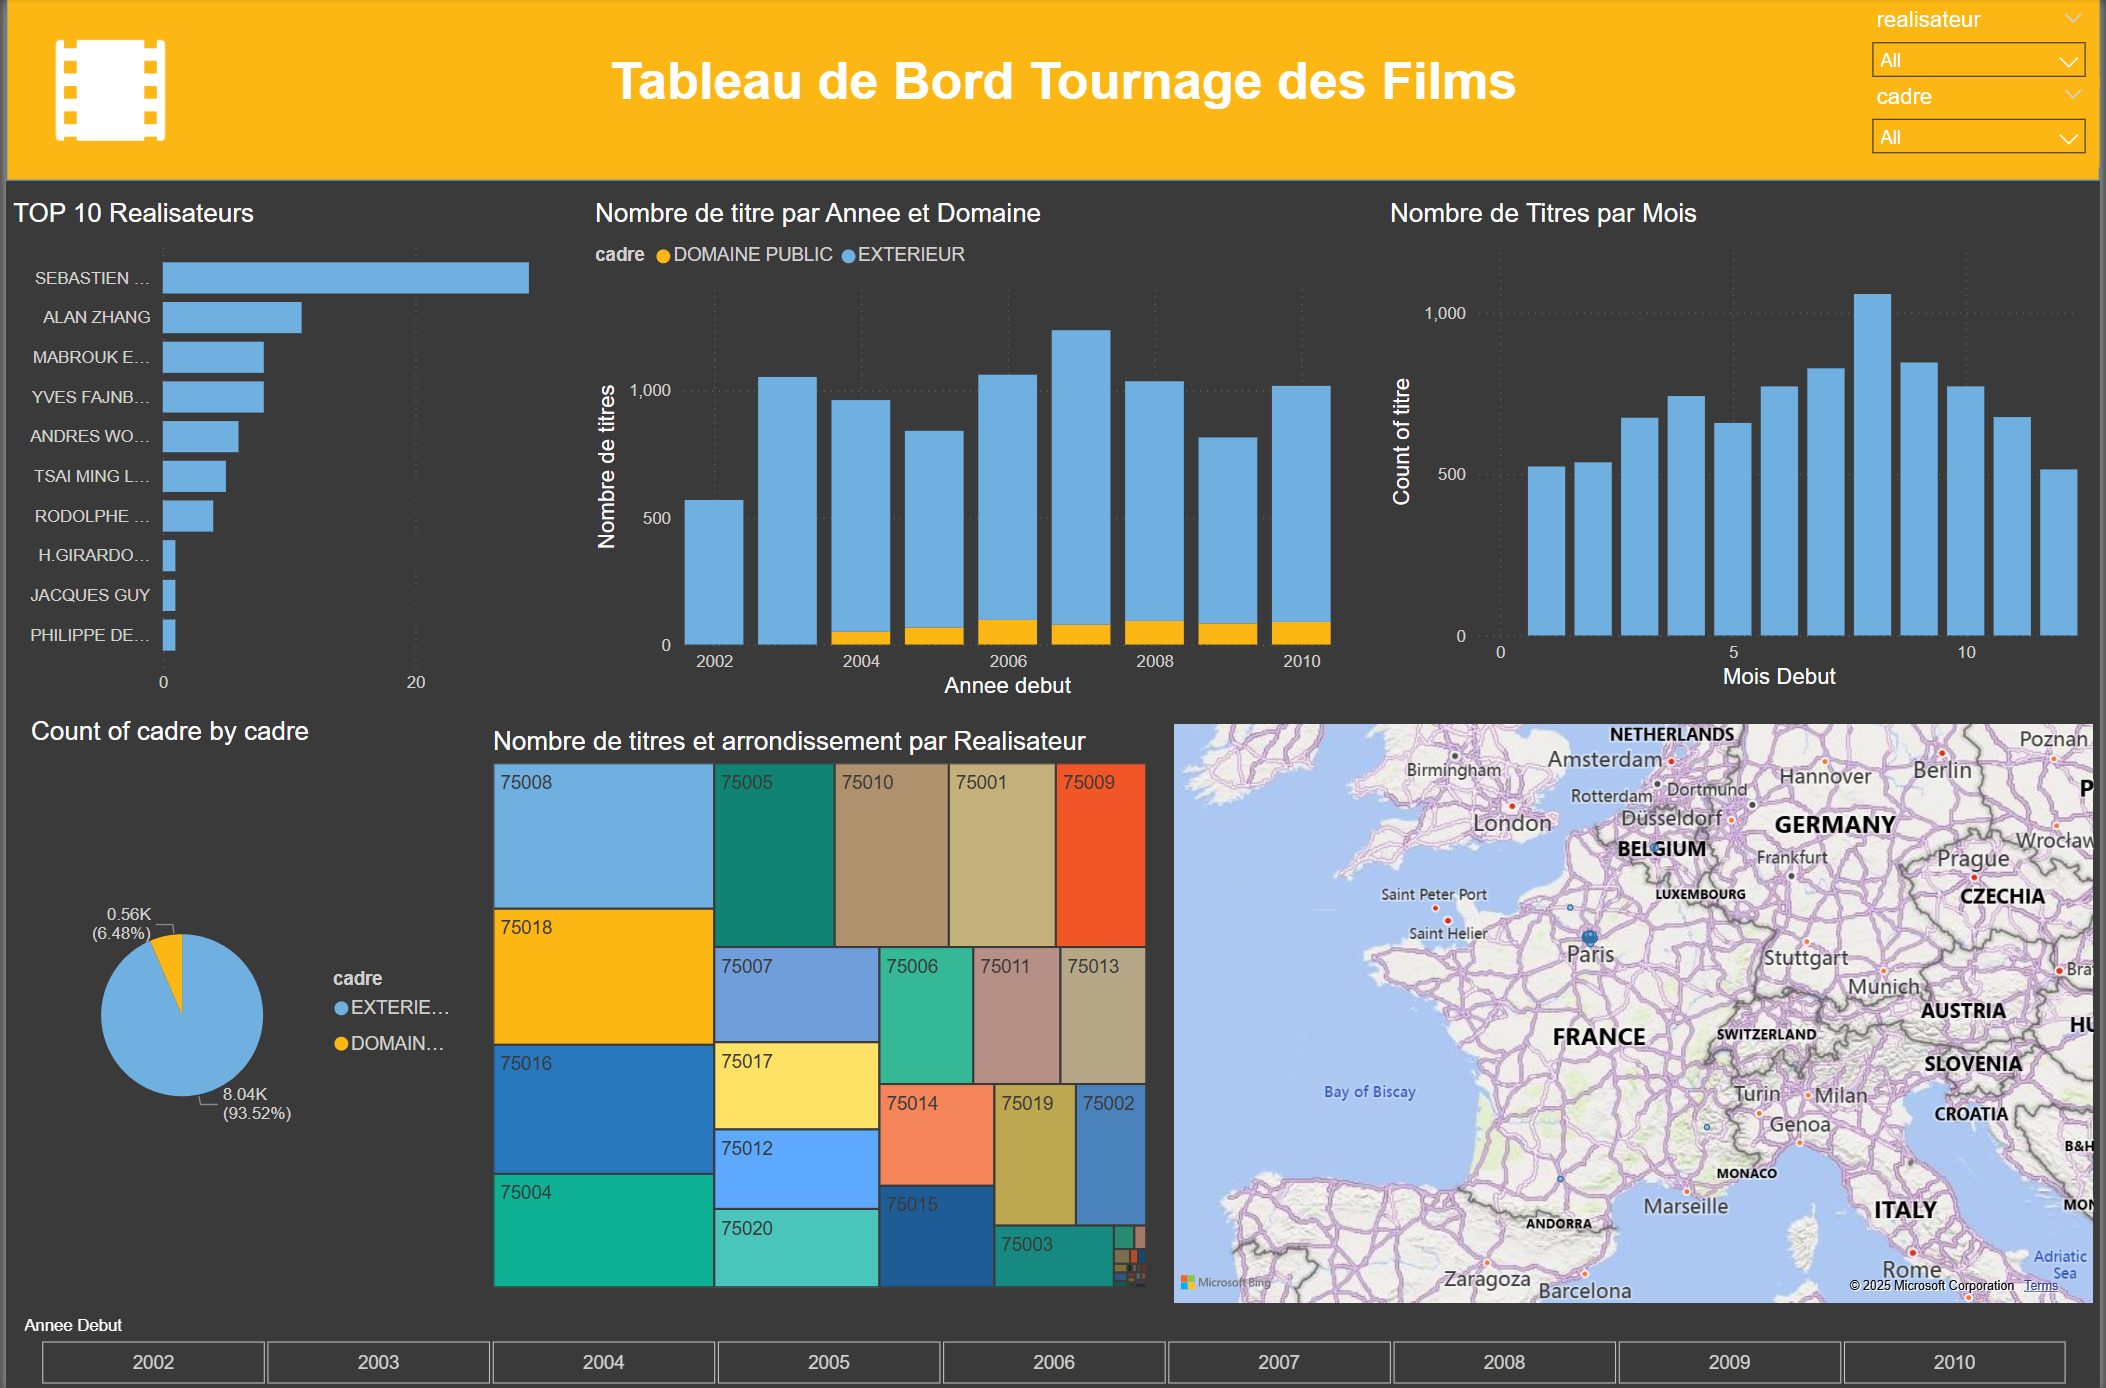

Layout of this report page (visuals, bound fields, positions):
{"tool":"powerbi","page":{"name":"Page 1","canvas":[1500,1000],"ordinal":0},"visuals":[{"type":"clusteredColumnChart","title":"Nombre de Titres par Mois","fields":{"Category":["tournagesdefilmsparis (2).Mois Debut"],"Y":["tournagesdefilmsparis (2).titre"]},"box":[986.4,144,503.9,355.7],"z":0},{"type":"columnChart","title":"Nombre de titre par Annee et Domaine","fields":{"Category":["tournagesdefilmsparis (2).Annee Debut"],"Y":["tournagesdefilmsparis (2).titre"],"Series":["tournagesdefilmsparis (2).cadre"]},"box":[416.9,144,537.3,362.1],"z":1000},{"type":"treemap","title":"Nombre de titres et arrondissement par Realisateur ","fields":{"Group":["tournagesdefilmsparis (2).arrondissement"],"Values":["tournagesdefilmsparis (2).titre"]},"box":[333.1,514.7,478.2,424.4],"z":2000},{"type":"map","fields":{"Size":["tournagesdefilmsparis (2).titre"],"Y":["tournagesdefilmsparis (2).Latitude"],"X":["tournagesdefilmsparis (2).Longitude"]},"box":[831.2,514.7,668.4,424.7],"z":3000},{"type":"slicer","fields":{"Values":["tournagesdefilmsparis (2).Annee Debut"]},"box":[0,939.4,1499.6,60.3],"z":4000},{"type":"pieChart","fields":{"Category":["tournagesdefilmsparis (2).cadre"],"Y":["tournagesdefilmsparis (2).cadre"]},"box":[12.9,514.7,320.2,407.2],"z":5000},{"type":"textbox","box":[417.3,22.8,674.1,66.1],"z":6000},{"type":"image","box":[11.9,11.9,106.2,88.9],"z":7000},{"type":"shape","box":[0,0,1500,131.1],"z":8000},{"type":"slicer","fields":{"Values":["tournagesdefilmsparis (2).cadre"]},"box":[1327,55.9,173,65.5],"z":9000},{"type":"slicer","fields":{"Values":["tournagesdefilmsparis (2).realisateur"]},"box":[1327,1.1,173,63.4],"z":10000},{"type":"textbox","box":[427.3,32.8,674.1,66.1],"z":11000},{"type":"image","box":[21.9,21.9,106.2,88.9],"z":12000},{"type":"clusteredBarChart","title":"TOP 10 Realisateurs","fields":{"Y":["tournagesdefilmsparis (2).titre"],"Category":["tournagesdefilmsparis (2).realisateur"]},"box":[0,144,395.4,362.1],"z":12001}]}

Visuals, with their boxes in screenshot pixels (x1, y1, x2, y2), scaled from the page's 1500x1000 canvas onto the 2106x1388 screenshot:
"Nombre de Titres par Mois" clusteredColumnChart: crop(1385, 200, 2092, 694)
"Nombre de titre par Annee et Domaine" columnChart: crop(585, 200, 1340, 702)
"Nombre de titres et arrondissement par Realisateur " treemap: crop(468, 714, 1139, 1303)
map - tournagesdefilmsparis (2).titre x tournagesdefilmsparis (2).Latitude: crop(1167, 714, 2105, 1304)
slicer - tournagesdefilmsparis (2).Annee Debut: crop(0, 1304, 2105, 1387)
pieChart - tournagesdefilmsparis (2).cadre x tournagesdefilmsparis (2).cadre: crop(18, 714, 468, 1280)
textbox: crop(586, 32, 1532, 123)
image: crop(17, 17, 166, 140)
shape: crop(0, 0, 2105, 182)
slicer - tournagesdefilmsparis (2).cadre: crop(1863, 78, 2105, 169)
slicer - tournagesdefilmsparis (2).realisateur: crop(1863, 2, 2105, 90)
textbox: crop(600, 46, 1546, 137)
image: crop(31, 30, 180, 154)
"TOP 10 Realisateurs" clusteredBarChart: crop(0, 200, 555, 702)
